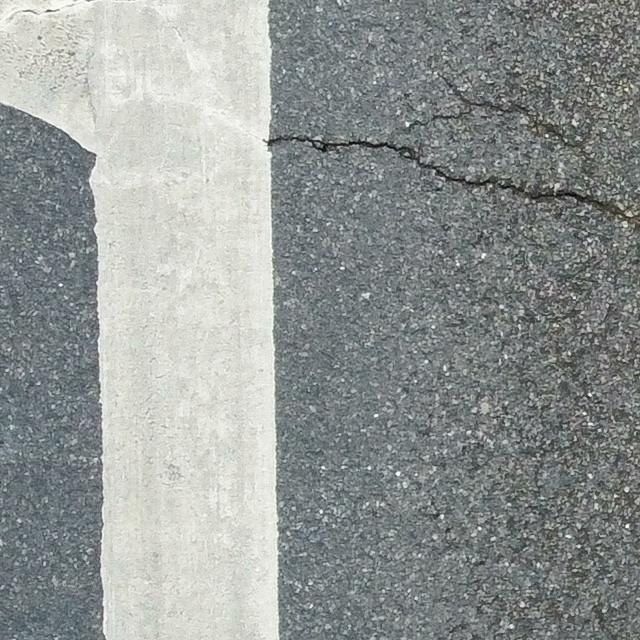TransverseCrack: (263, 136, 640, 227)
